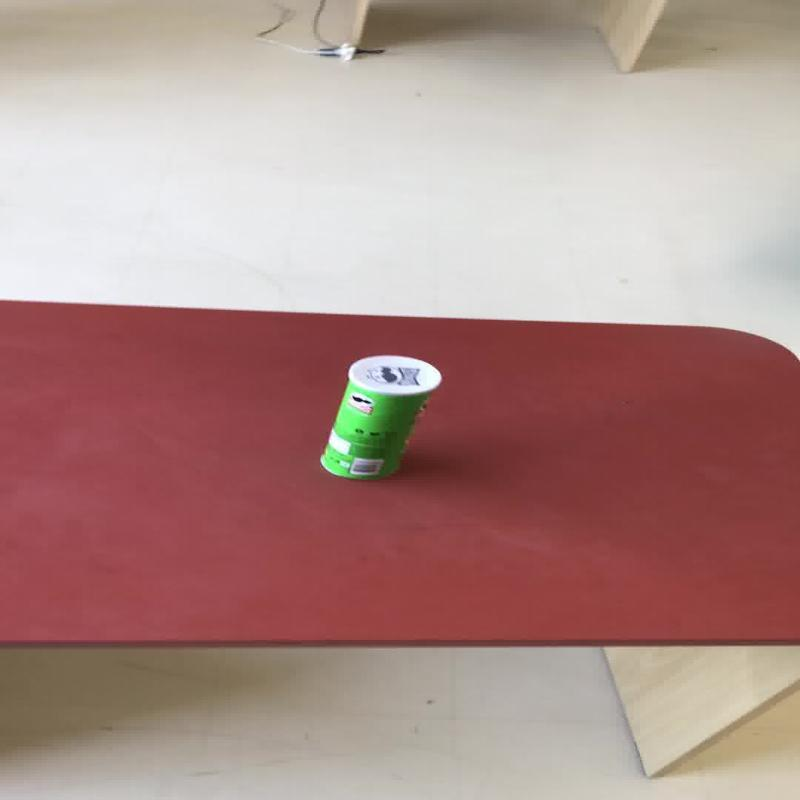pringles: (318, 353, 442, 480)
